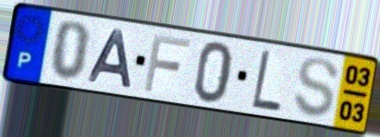0: (191, 39, 236, 106), (50, 18, 93, 84)
A: (86, 28, 134, 91)
F: (141, 32, 193, 94)
L: (250, 47, 284, 115)
S: (291, 55, 341, 120)
